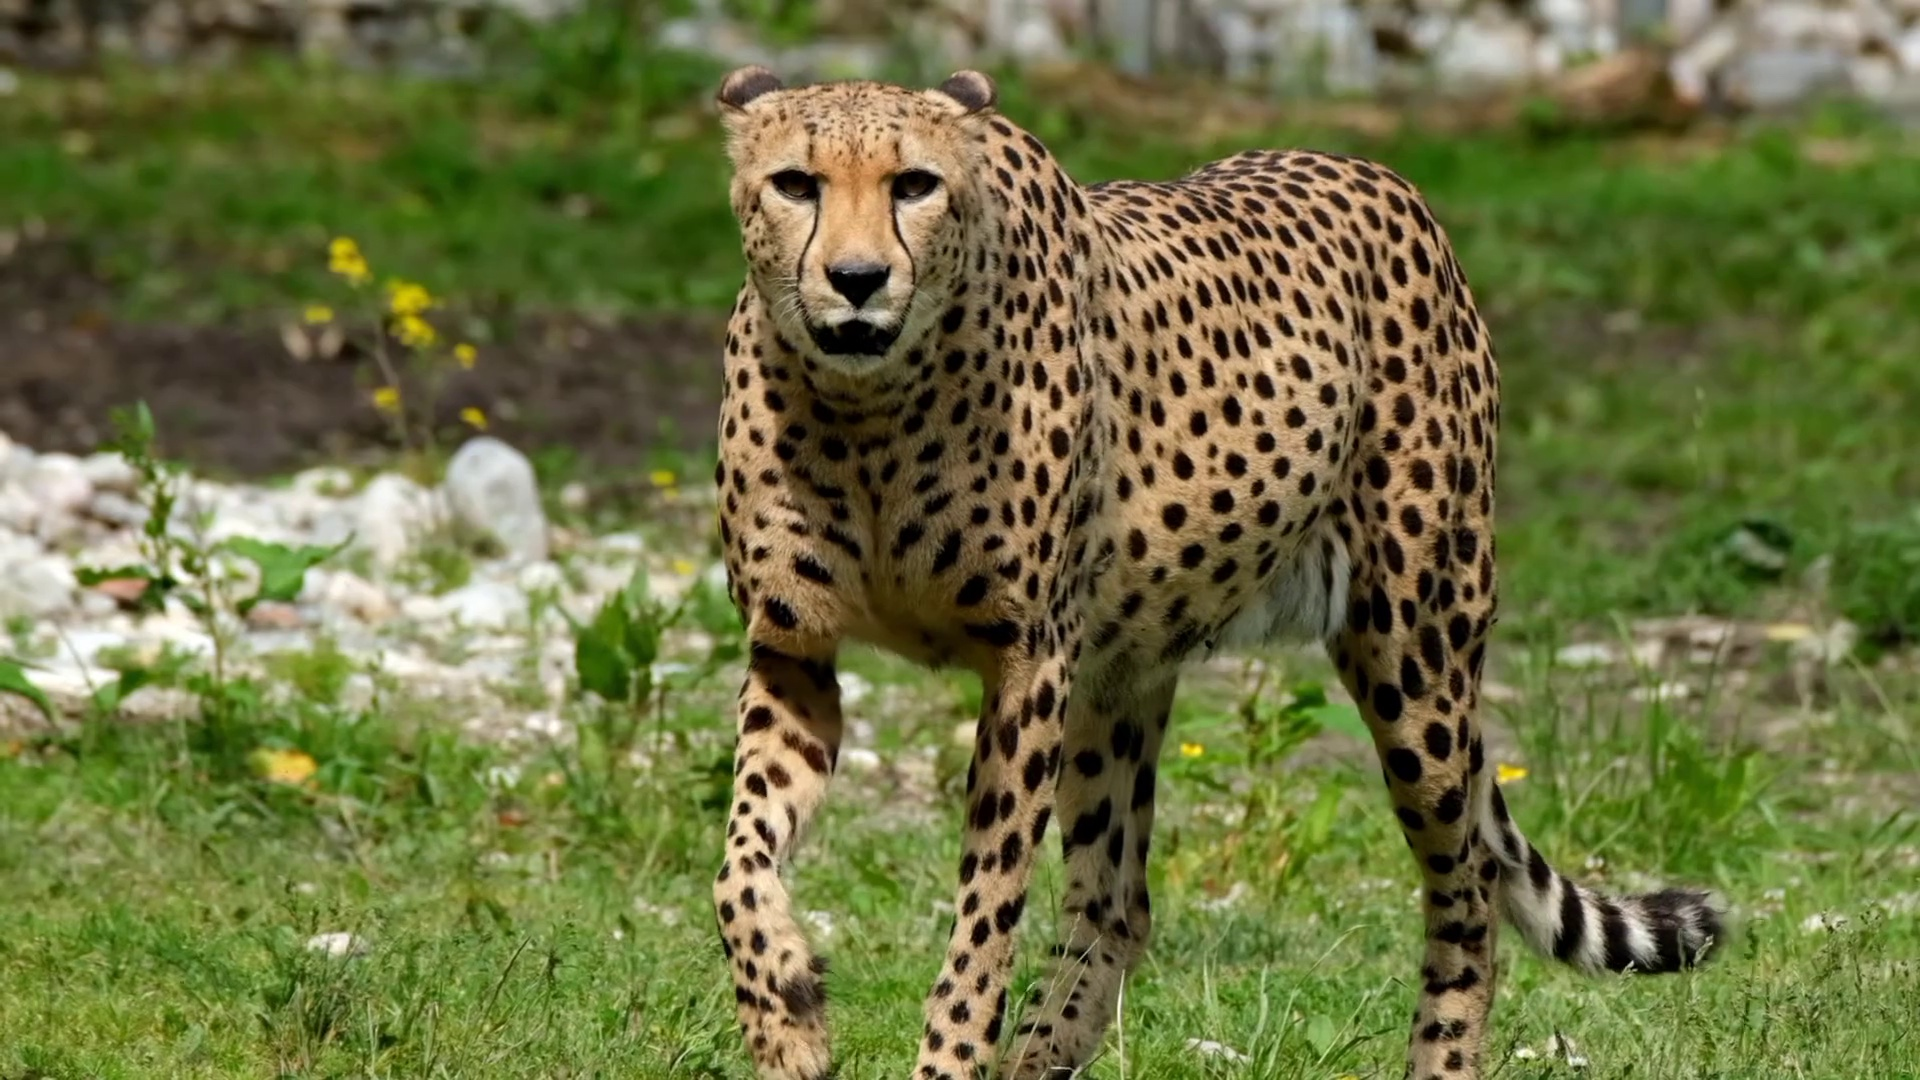Cheetah: (712, 58, 1729, 1079)
